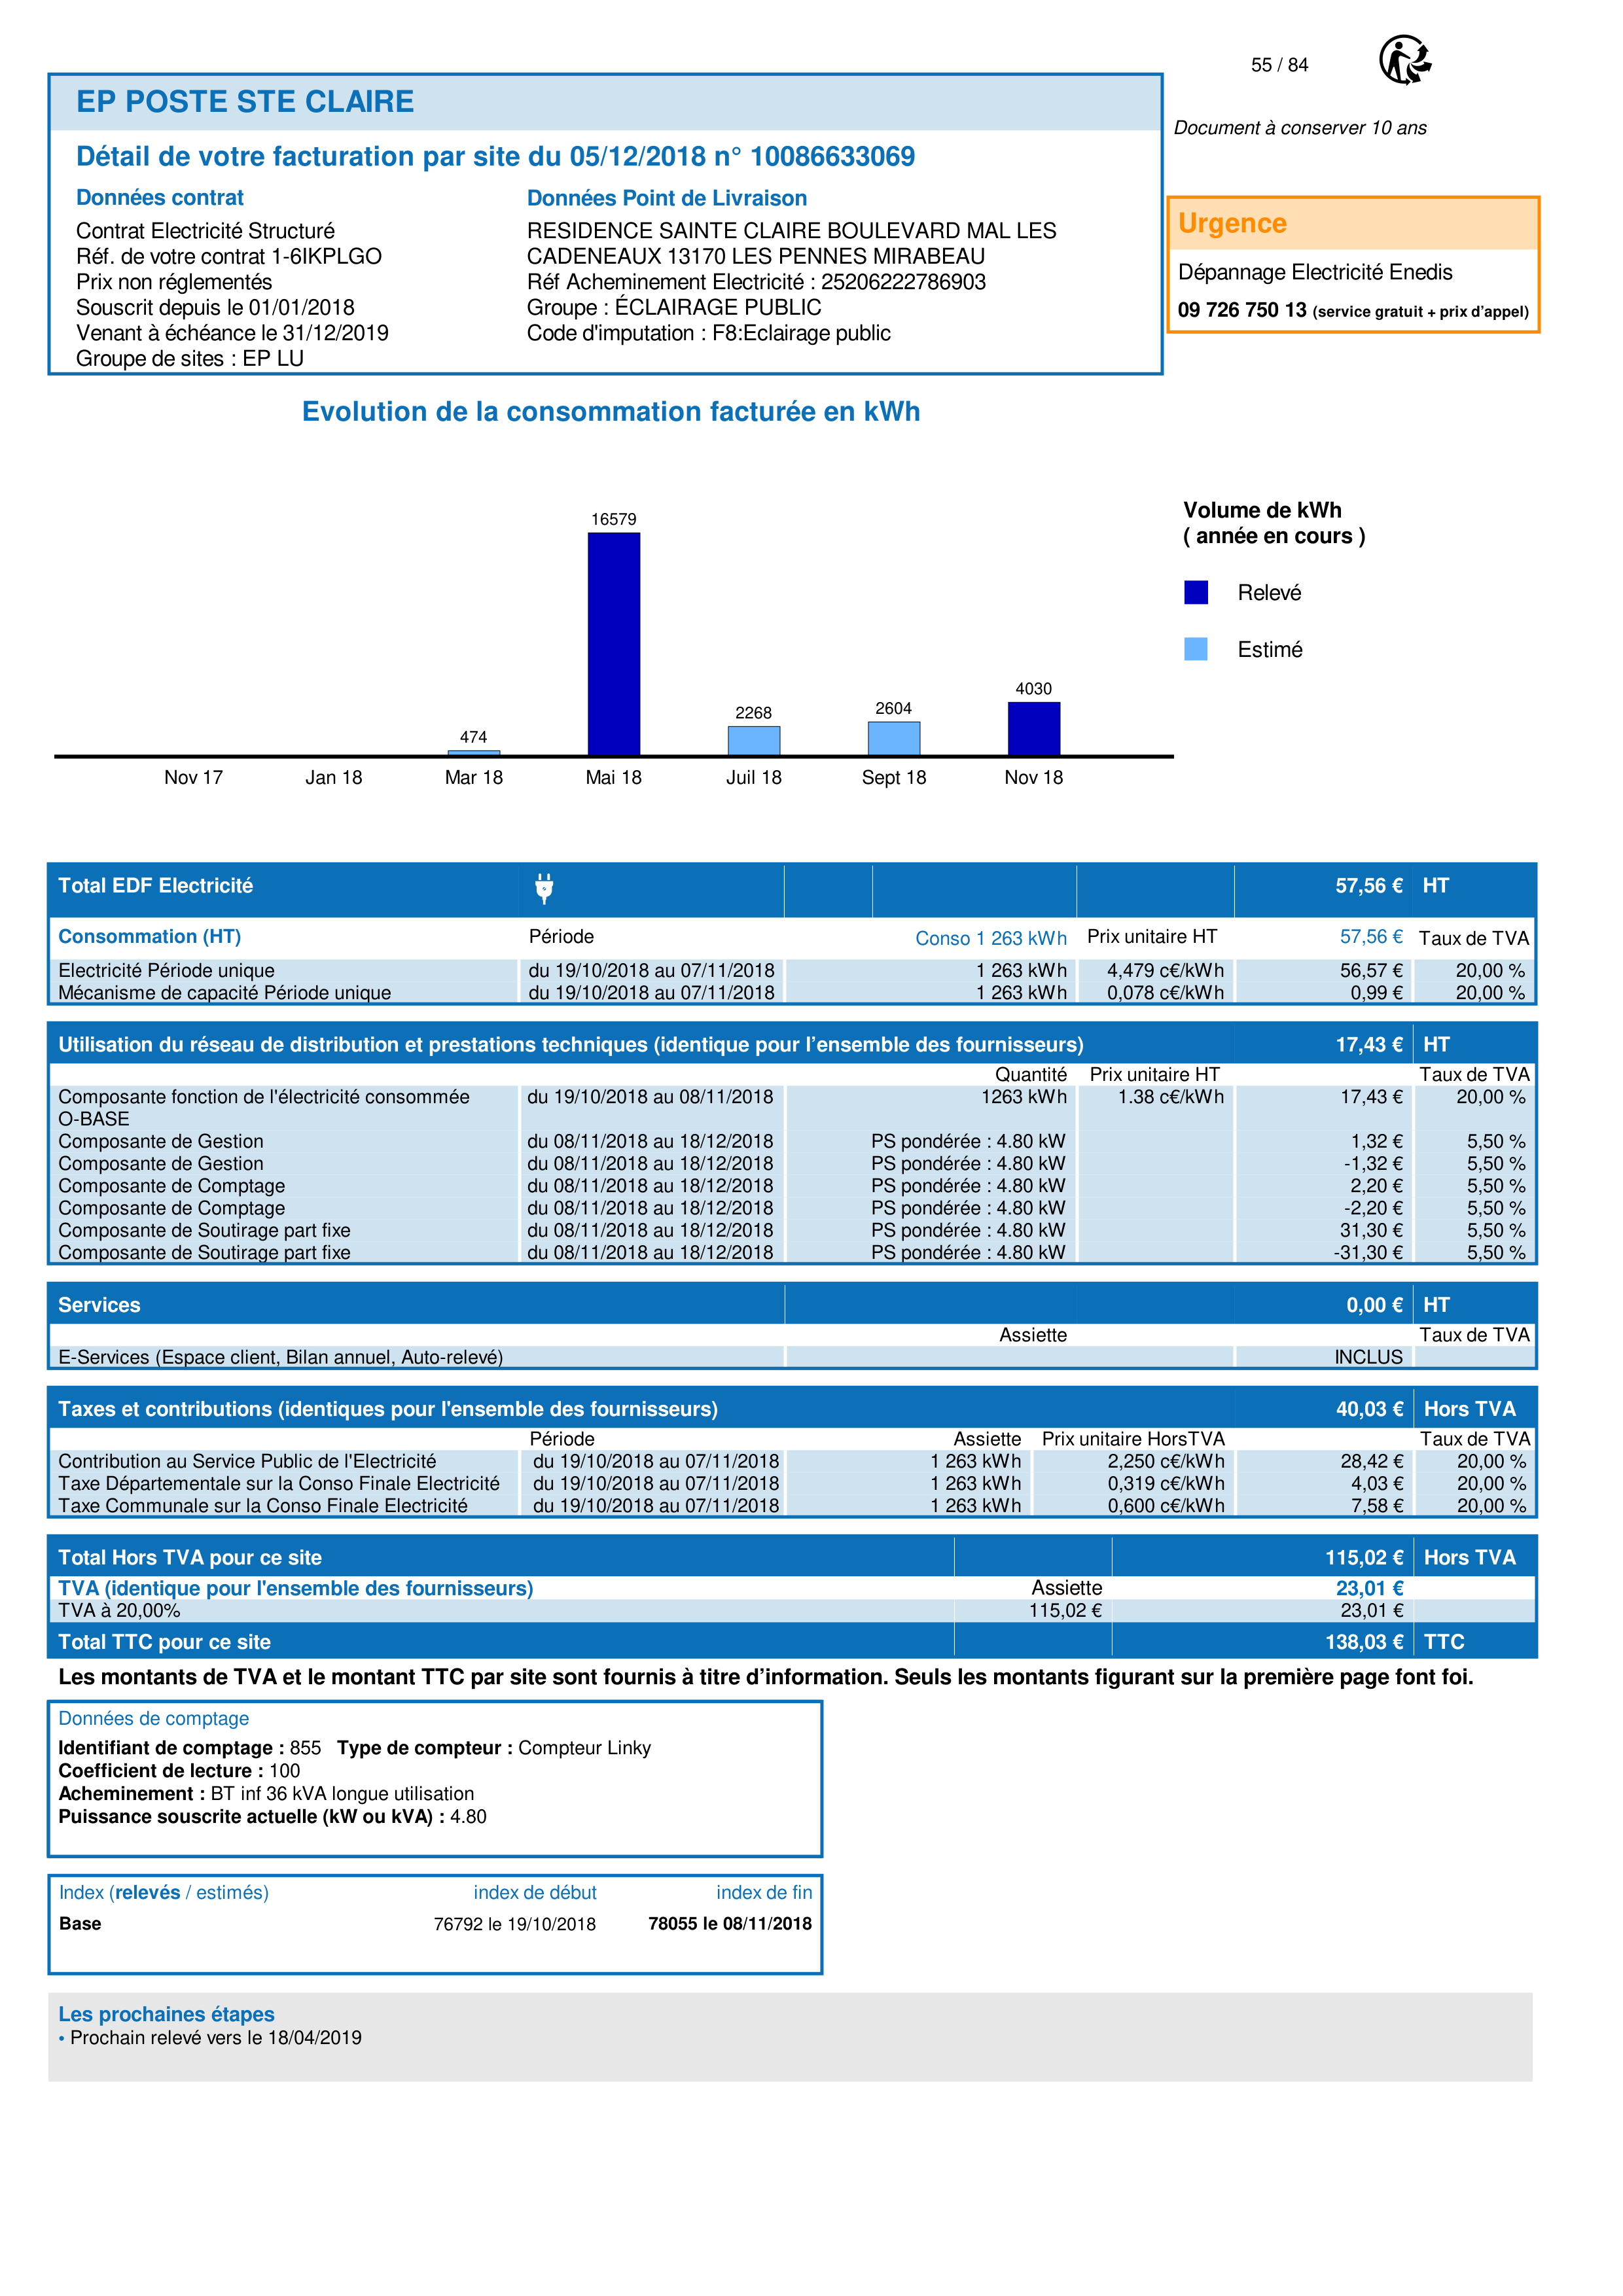area: (49, 1873, 822, 1977)
type_indicator: (49, 1875, 283, 1908)
